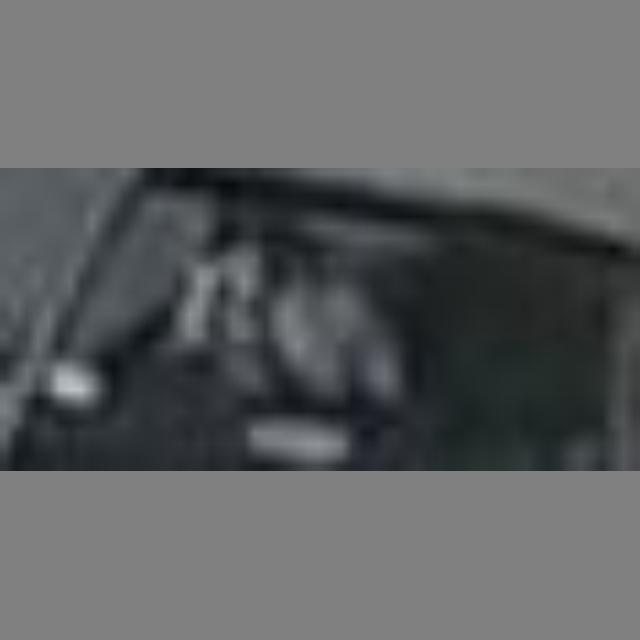pakai: (141, 211, 401, 396)
